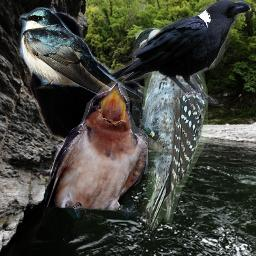Crow: (20, 10, 191, 181), (107, 0, 252, 105)
Swallow: (45, 82, 148, 219), (19, 7, 142, 103)
Woodpecker: (132, 28, 208, 230)
